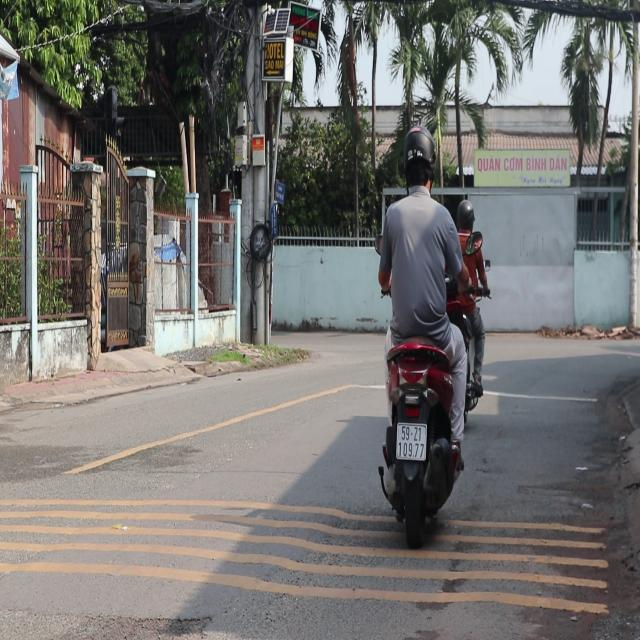helmet: (400, 126, 436, 194)
licenseplate: (372, 122, 479, 540)
nohelmet: (396, 423, 425, 458)
